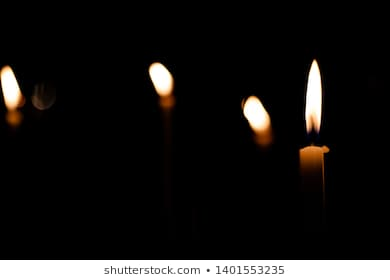Fire: (303, 58, 327, 132), (238, 95, 275, 139), (1, 66, 24, 114), (146, 63, 177, 97)
